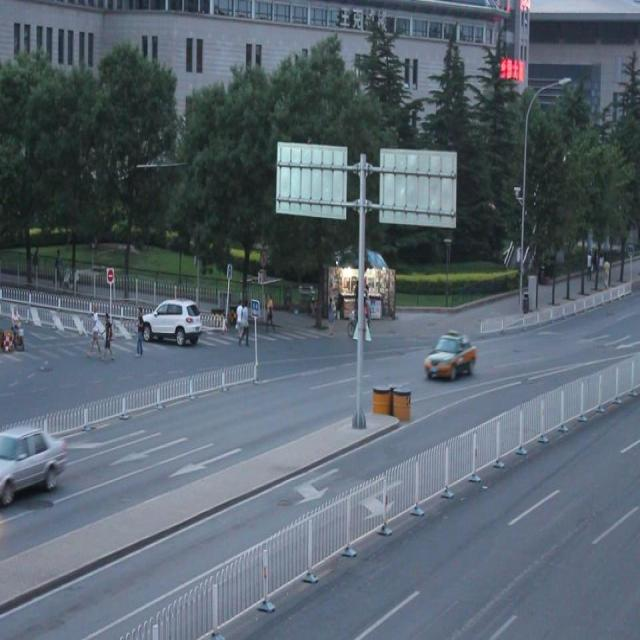car: (1, 421, 66, 504), (140, 297, 201, 343), (424, 329, 475, 379)
